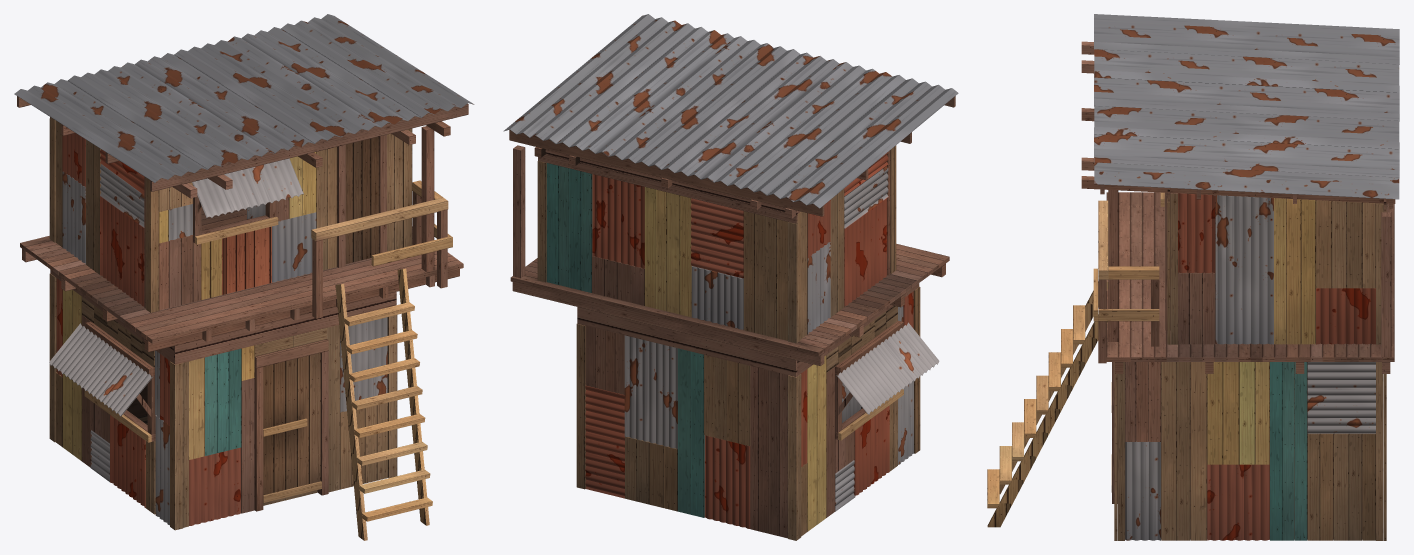
The model's file is houdini_stacked_shack_v6.glb.
3 renders of one model, left to right at view 1: azimuth 30°, elevation 25°; view 2: azimuth 150°, elevation 25°; view 3: azimuth 270°, elevation 25°, orthographic. The views are drawn at different scales.
Visible parts, largest first — view 1: LOD0; view 2: LOD0; view 3: LOD0.
Part boxes in pixels (box(x1,y1,x2,y2)): LOD0: box(14, 14, 474, 540); LOD0: box(503, 14, 958, 540); LOD0: box(987, 14, 1399, 540).
Size of what is drawn, in the model's own units: 4.9 by 5.24 by 4.93.
2 materials, 2 textured.
